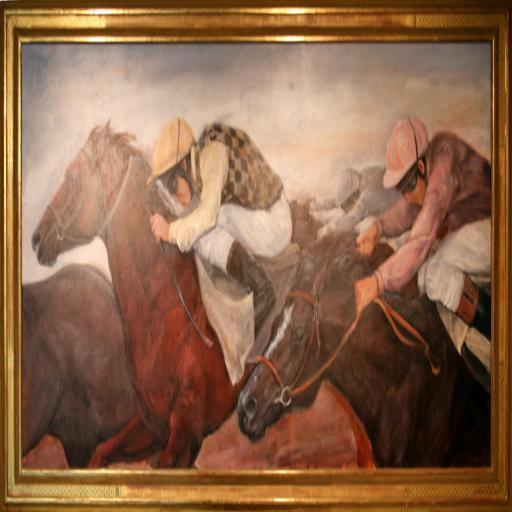horse: (28, 118, 374, 470), (234, 224, 490, 471), (23, 266, 139, 470)
